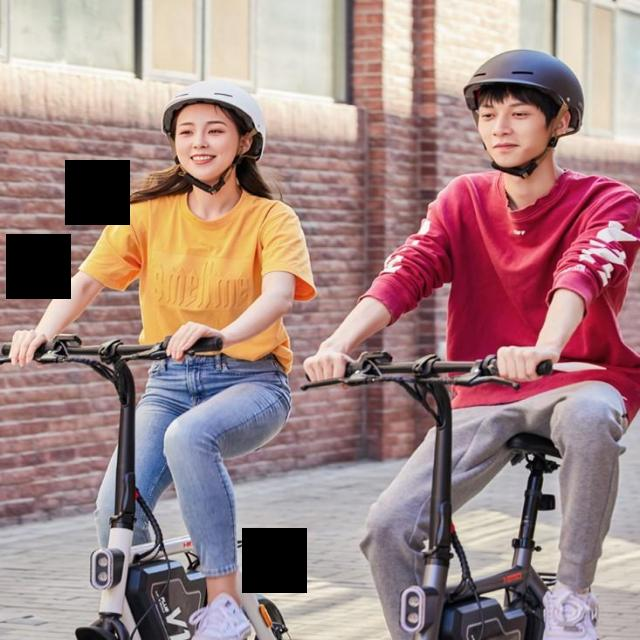Helmet: (465, 47, 585, 172), (164, 79, 272, 182)
